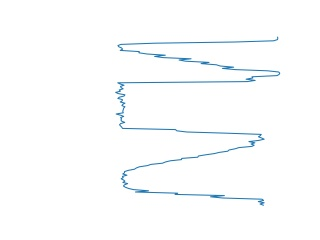distributaryChannelFill: (111, 71, 267, 143)
mouthBar: (115, 34, 283, 78)
underwaterDistributaryChannel: (119, 139, 269, 209)
